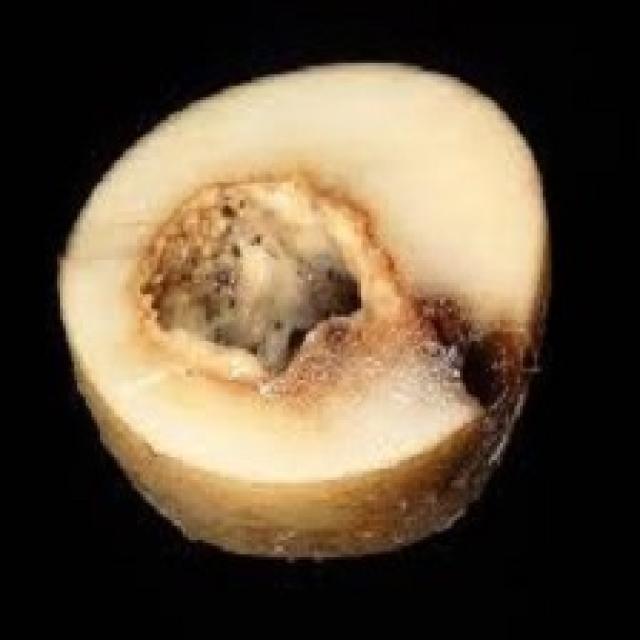blackleg: (45, 48, 565, 578)
